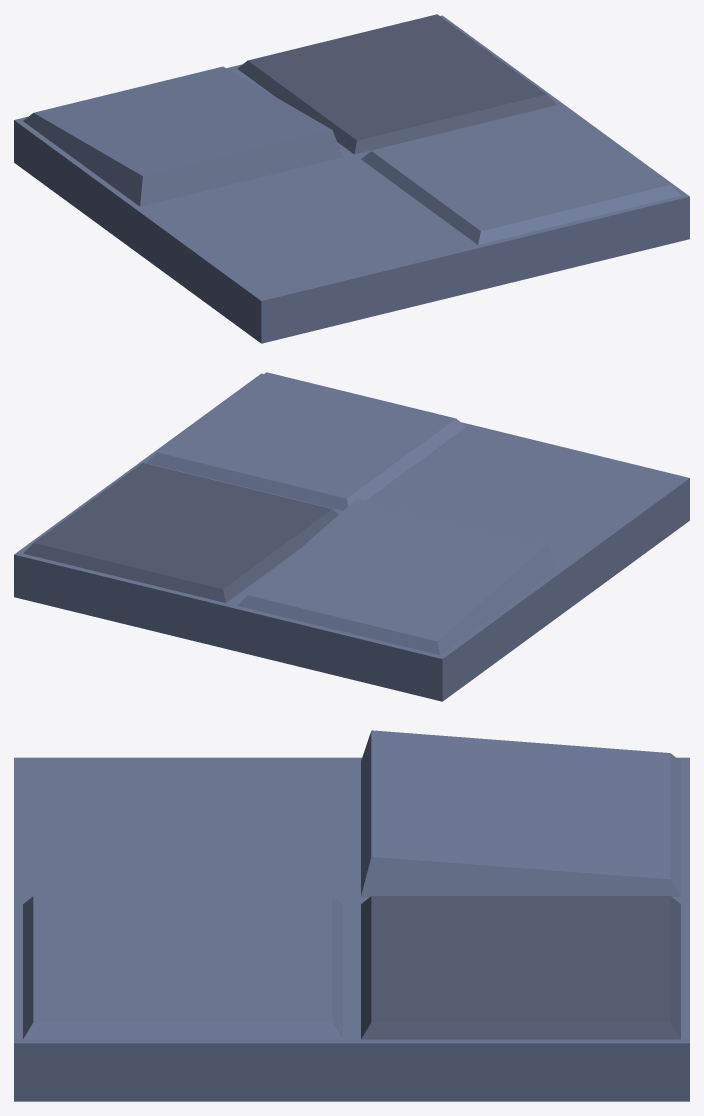
Rendered from piso grande 2.fbx.
The picture shows the model from 3 angles, top to bottom: view 1: azimuth 30°, elevation 25°; view 2: azimuth 150°, elevation 25°; view 3: azimuth 270°, elevation 25°; orthographic projection. The views are drawn at different scales.
Parts seen in each view (by area): view 1: floor.006; view 2: floor.006; view 3: floor.006.
Boxes of the visible parts, left/top/right/bottom form: floor.006: left=14, top=14, right=689, bottom=343; floor.006: left=14, top=372, right=689, bottom=701; floor.006: left=14, top=730, right=689, bottom=1101.
Size of the model in its own units: 211 by 32.25 by 211.
